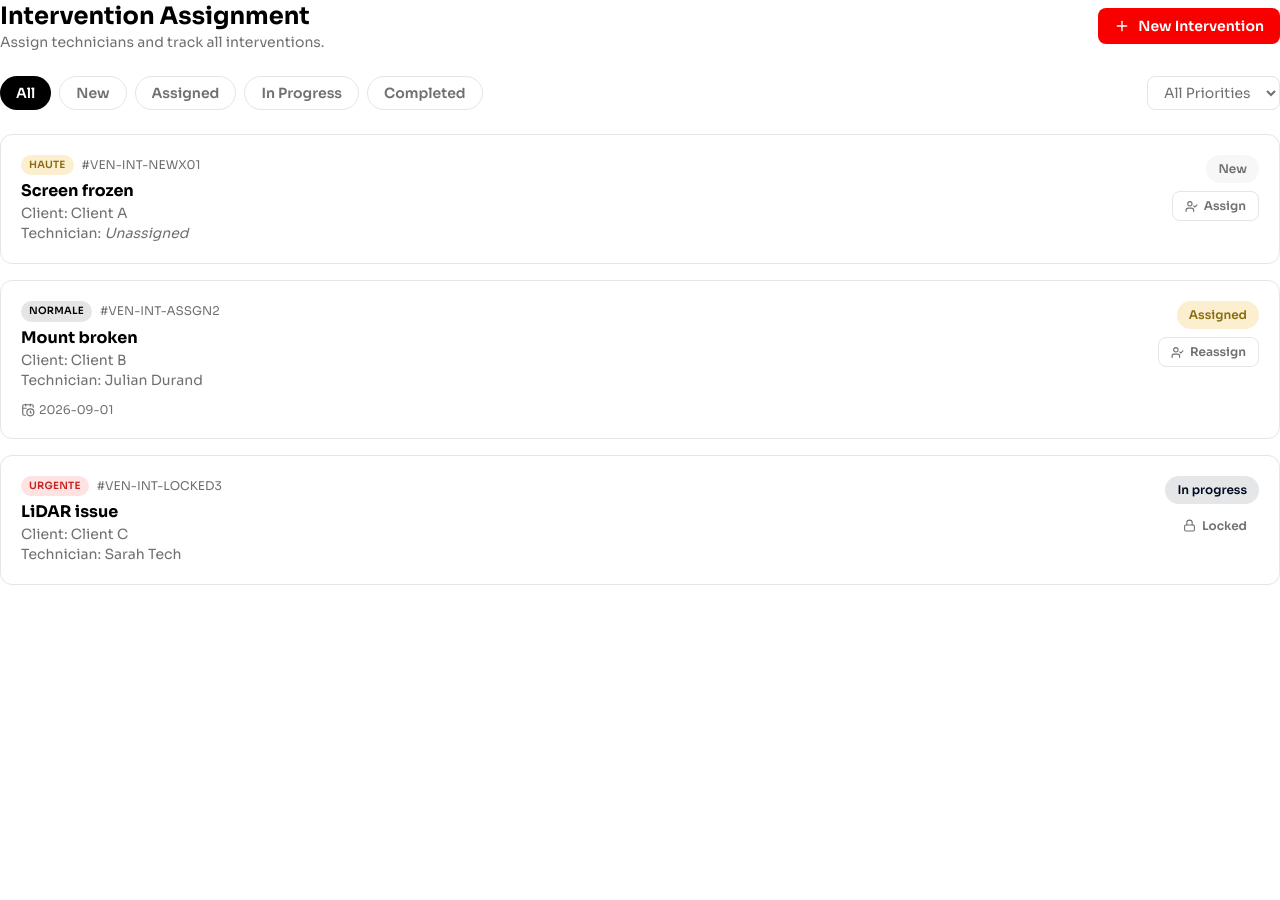
Test: Admin InterventionAssignment › creates a new intervention for a searched client and shows a success toast
Expected: the heading "Screen frozen" is shown, [21,180,134,201]
Click the button "New Intervention" at [1189, 26], box [1098,8,1279,44]
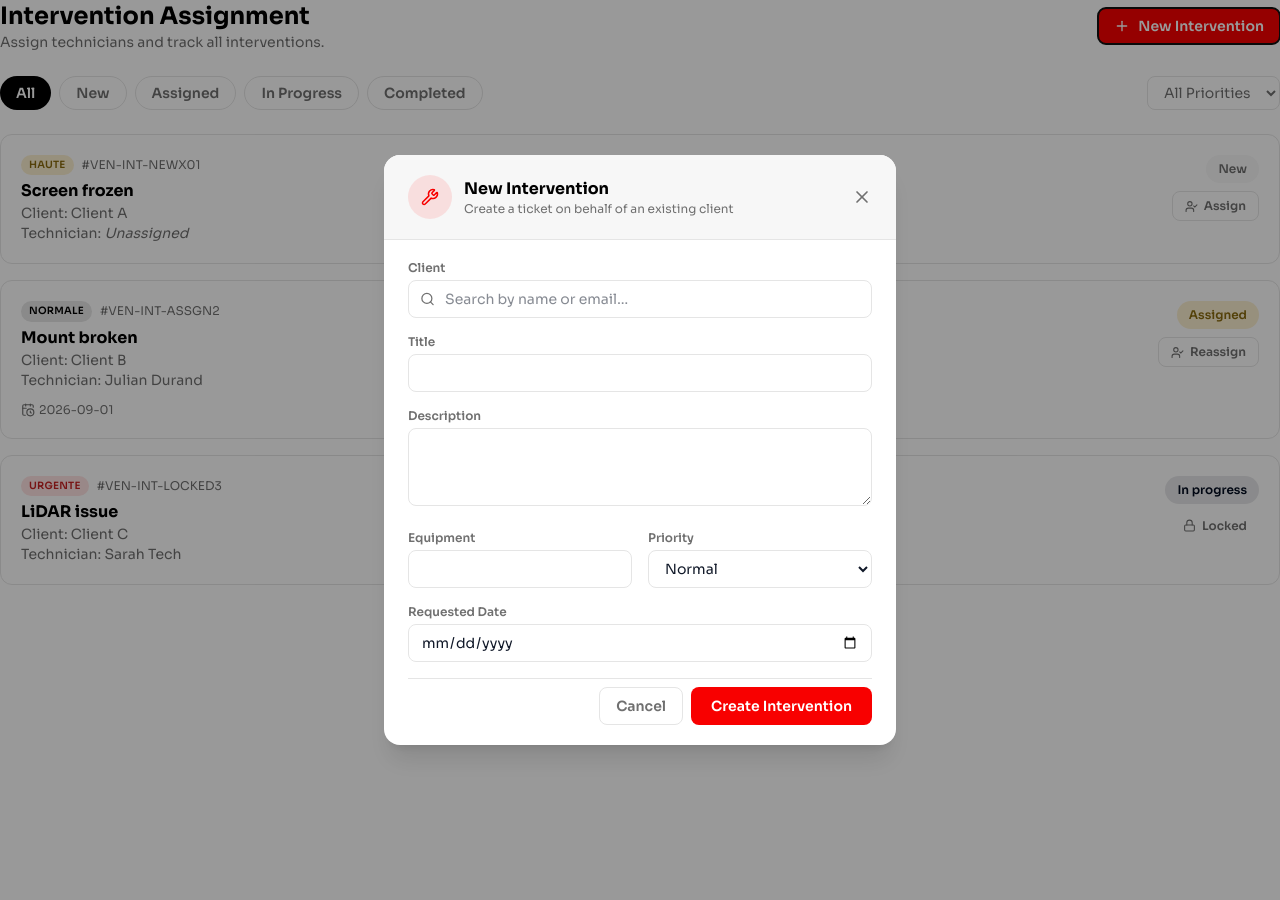
Type "Elena" into the field labelled "Client" at [640, 299], box [408,280,872,318]
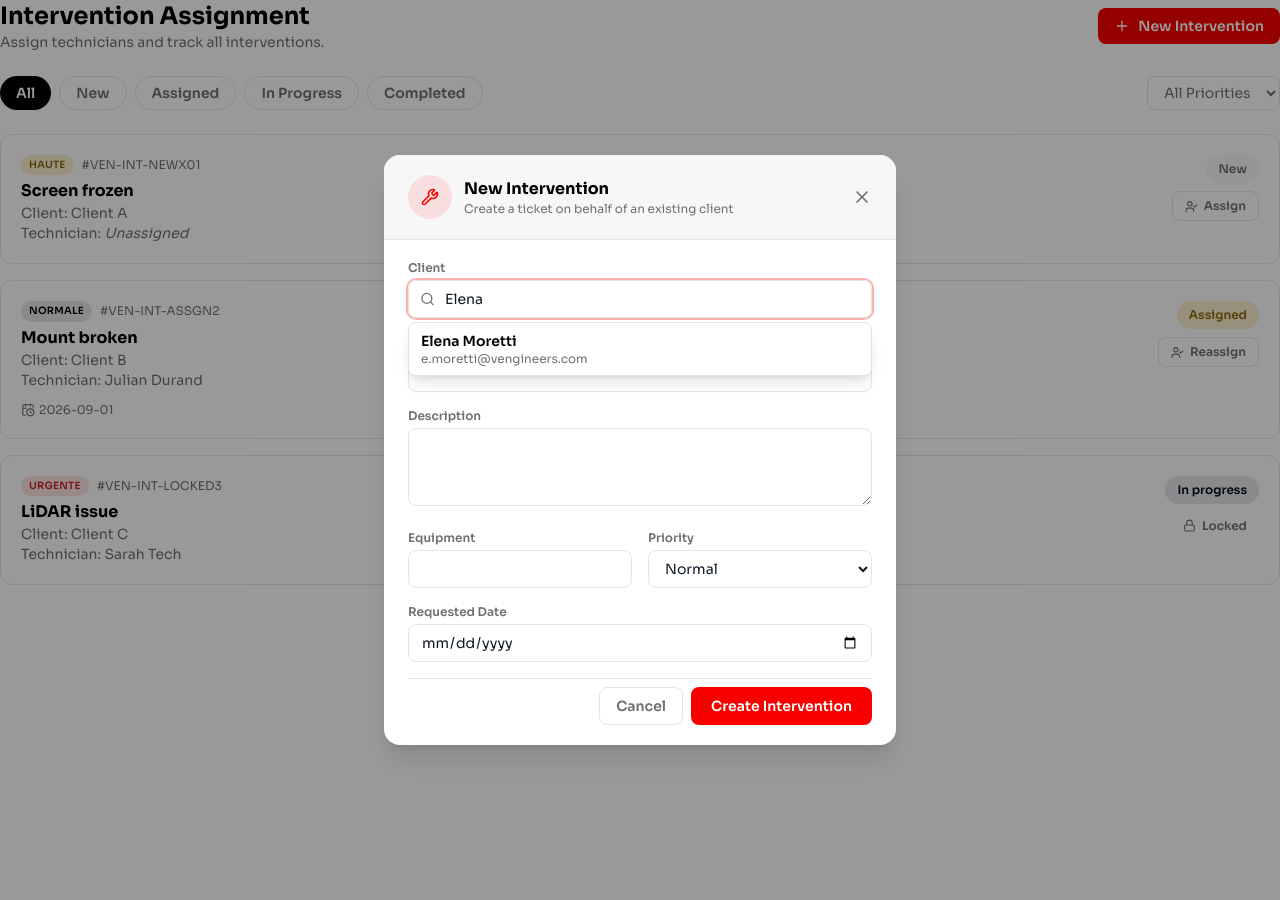
Click the text "Elena Moretti" at [469, 341], box [421,332,517,350]
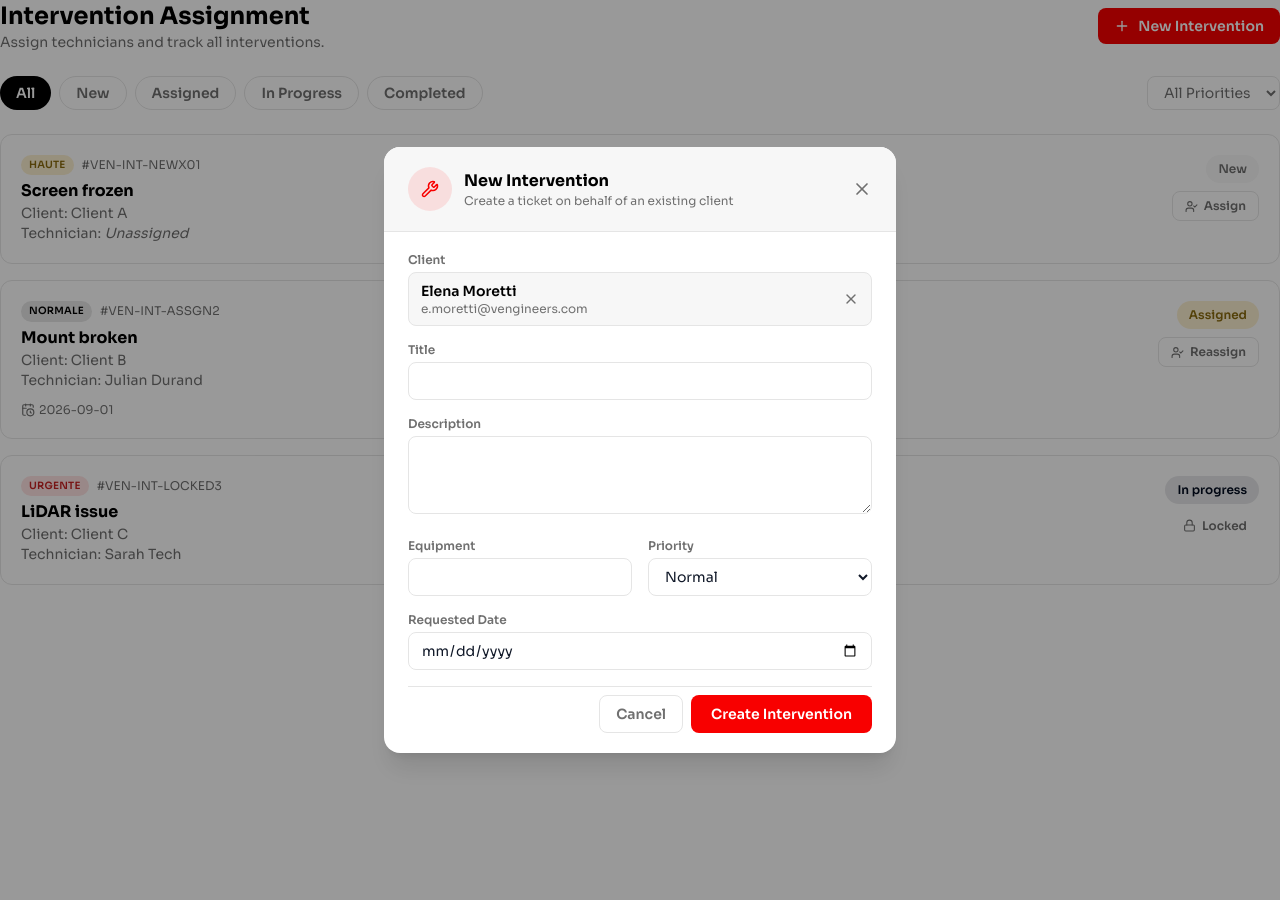
Type "New ticket" into the field labelled "Title" at [640, 381], box [408,362,872,400]
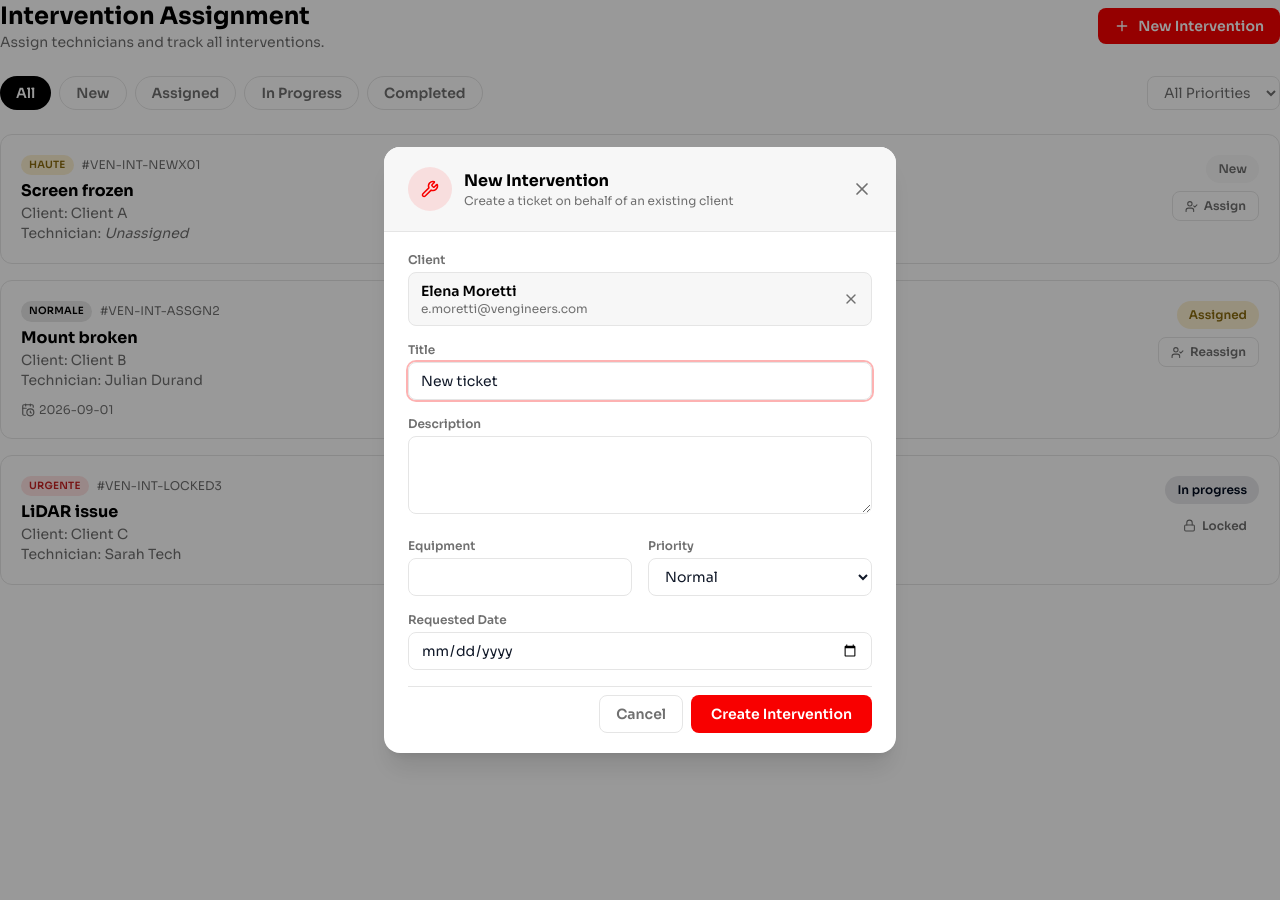
Type "Details about the issue." into the text box labelled "Description" at [640, 475], box [408,436,872,514]
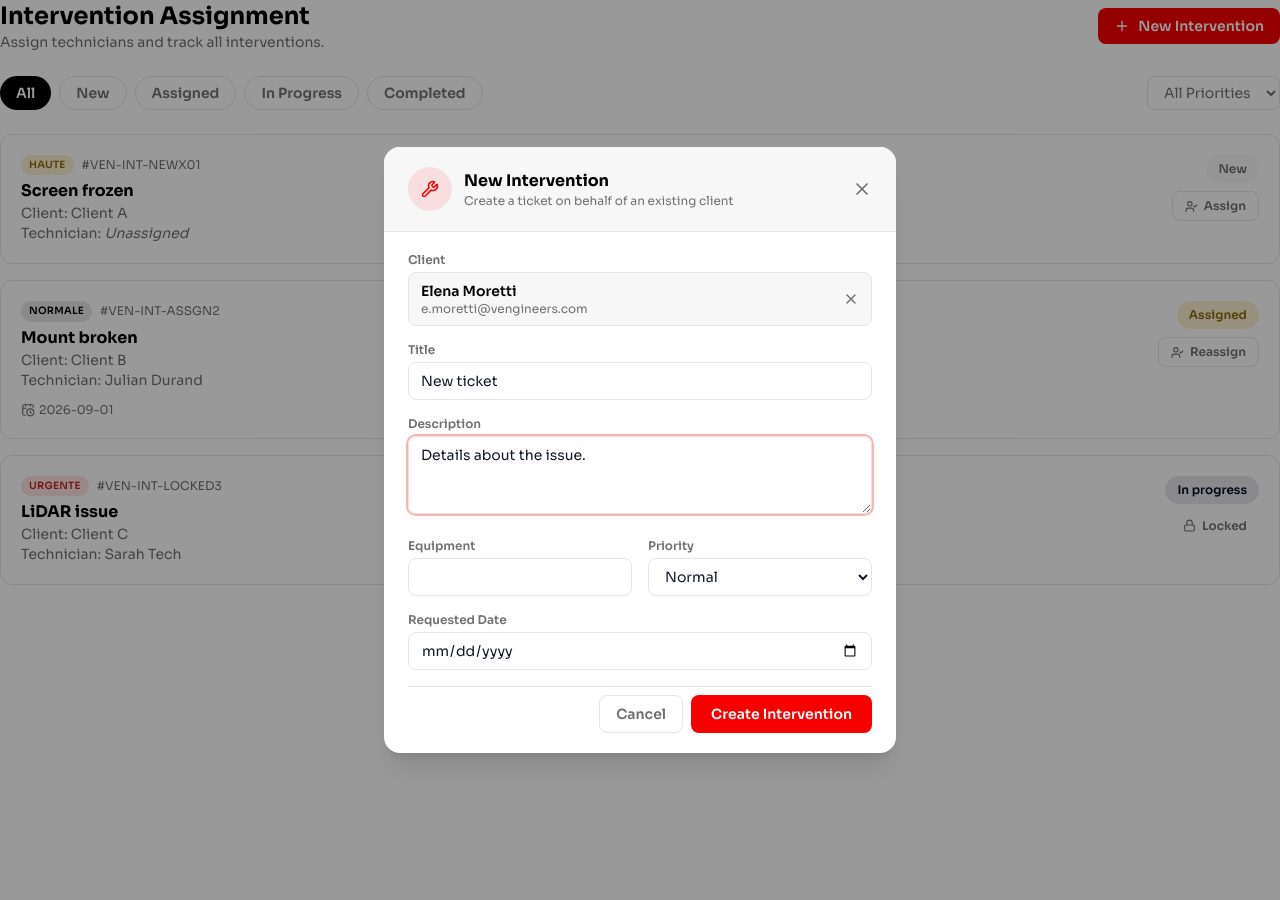
Click the button "Create Intervention" at [782, 714], box [691,695,872,733]
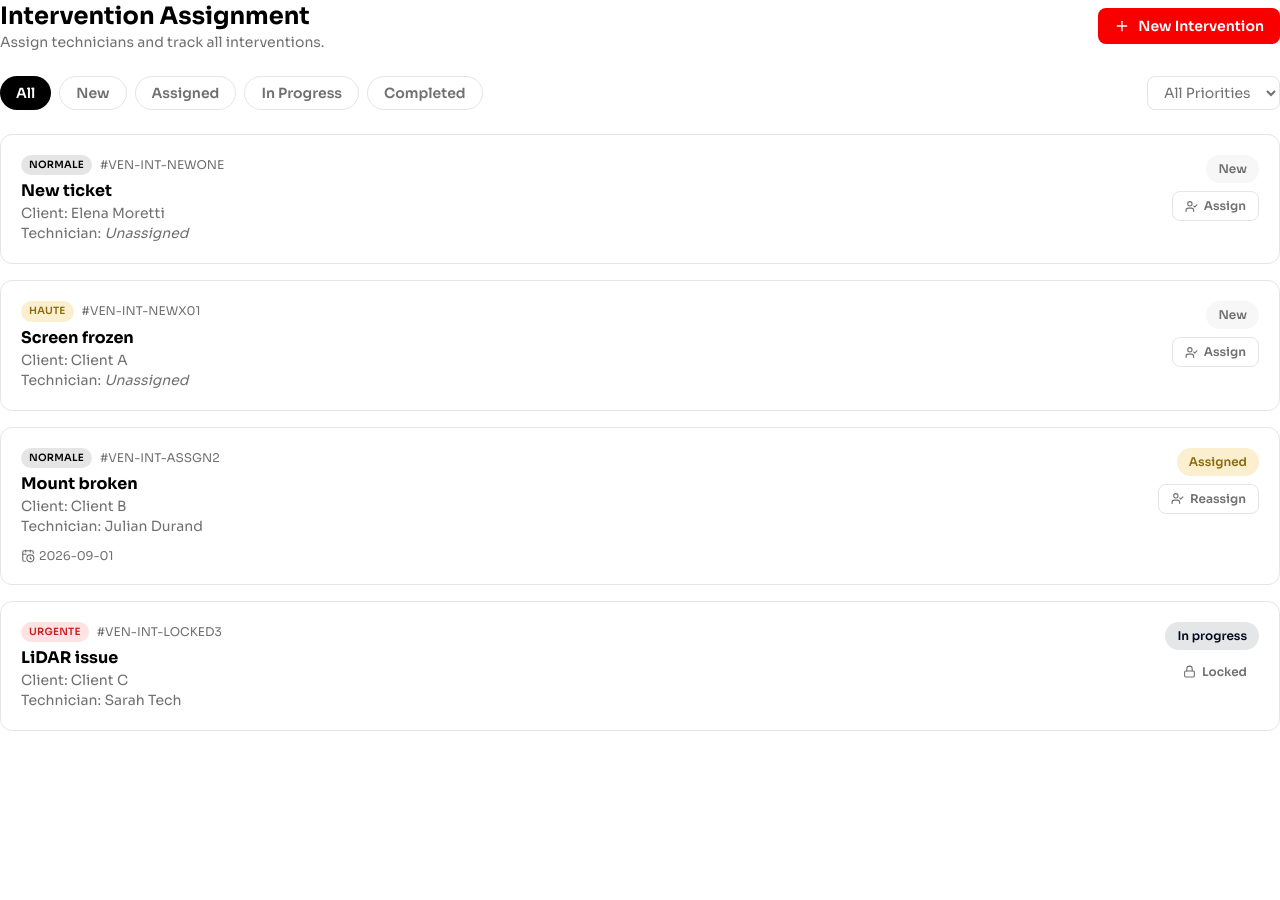
Expected: the heading "New ticket" is shown, [21,180,112,201]
